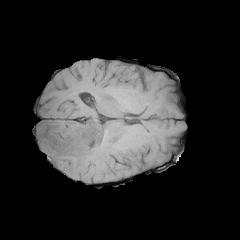glioma: (38, 110, 148, 177)
